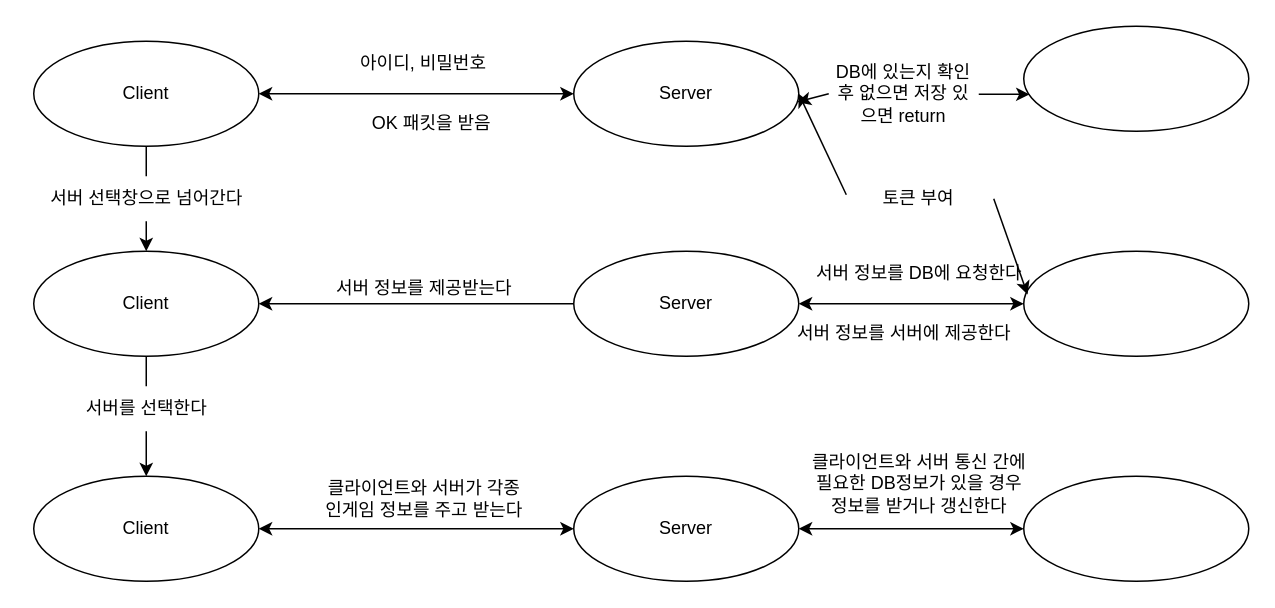
This 1275x608 diagram has some shape labels left out. Here are the shapes that lost their labels. From the top down, the centre of each, then its label:
At (1135,78): "AccountDB".
At (1135,303): "SharedDB".
At (1135,528): "GameDB".
